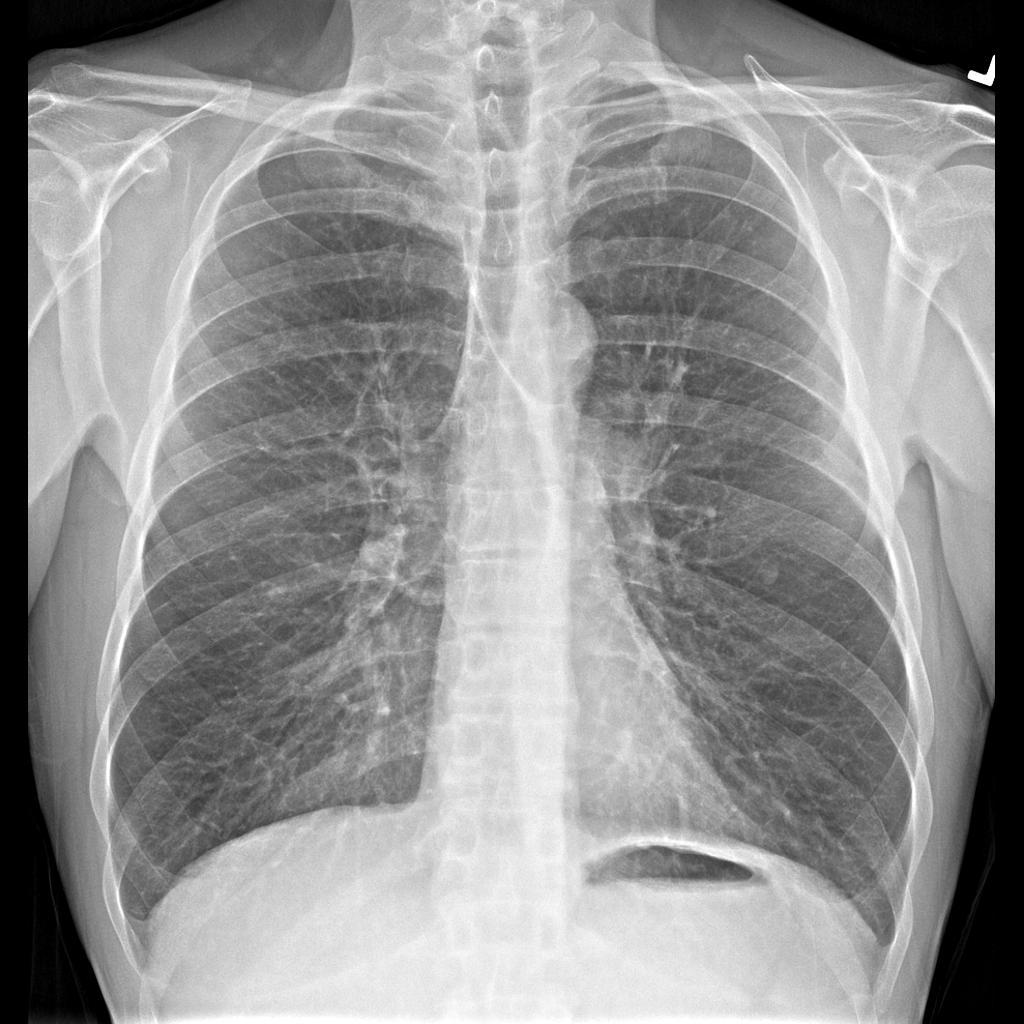Nodule: (752, 553, 788, 594)
